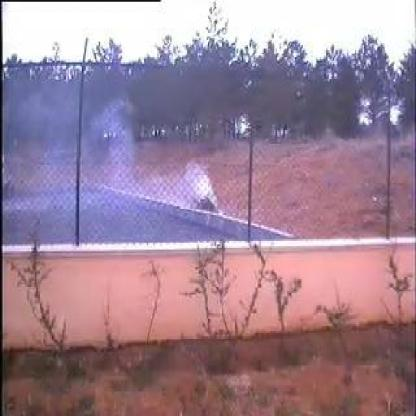-: (78, 81, 251, 247)
